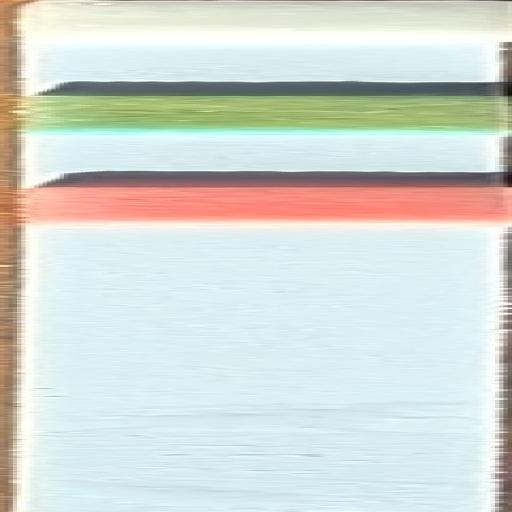pads: (0, 90, 512, 136), (0, 0, 512, 42), (0, 184, 512, 224)
